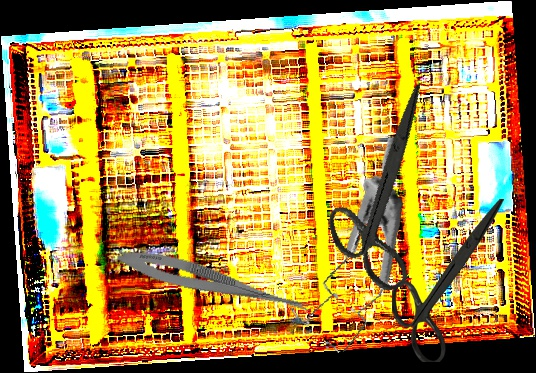Iris Scissors: (297, 84, 475, 302), (392, 199, 504, 362)
Micro Scissor: (114, 242, 318, 320)
Speculum: (262, 135, 443, 360)
